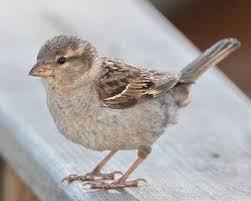hsparrow: (28, 27, 245, 196)
